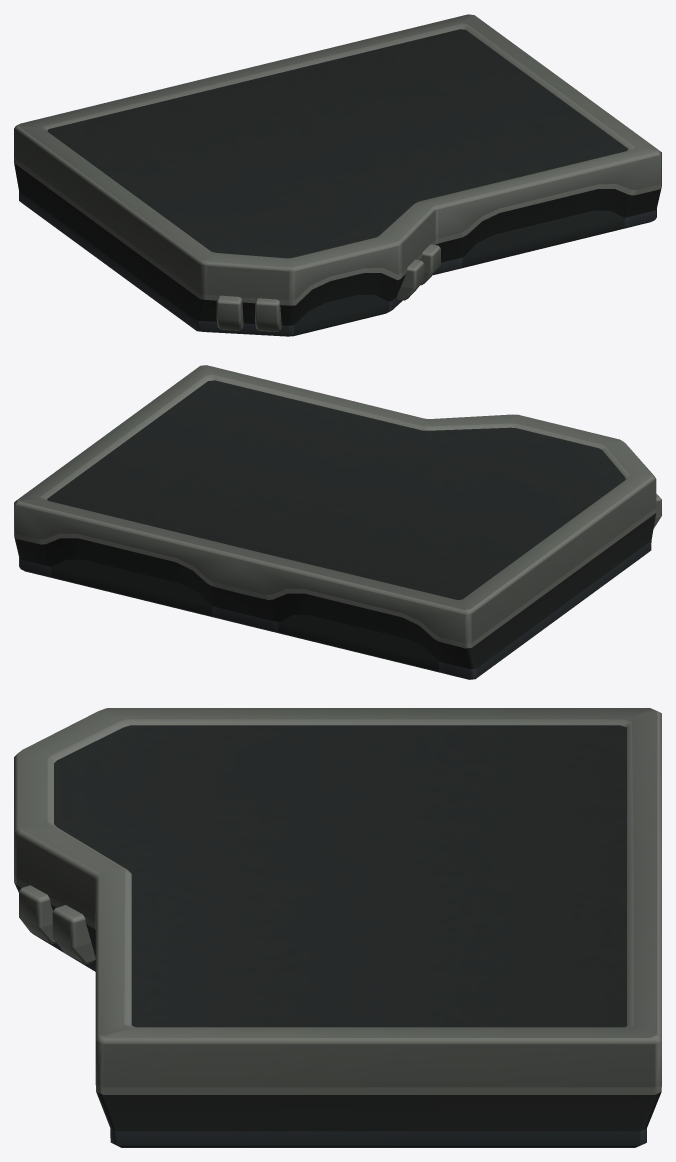
The model's file is appartment_type2_roof_type1_flat_cream.fbx.
3 views of the same model, one above another, from view 1: azimuth 30°, elevation 25°; view 2: azimuth 150°, elevation 25°; view 3: azimuth 270°, elevation 25° (orthographic). The views are drawn at different scales.
Parts seen in each view (by area): view 1: appartment_type2_roof_type1_flat_cream; view 2: appartment_type2_roof_type1_flat_cream; view 3: appartment_type2_roof_type1_flat_cream.
Part boxes in pixels (x1,y1,x2,y2): appartment_type2_roof_type1_flat_cream: (14,14,661,336); appartment_type2_roof_type1_flat_cream: (14,365,661,679); appartment_type2_roof_type1_flat_cream: (14,708,661,1147).
Bounding box in the file's own units: 1210 × 186 × 992.
